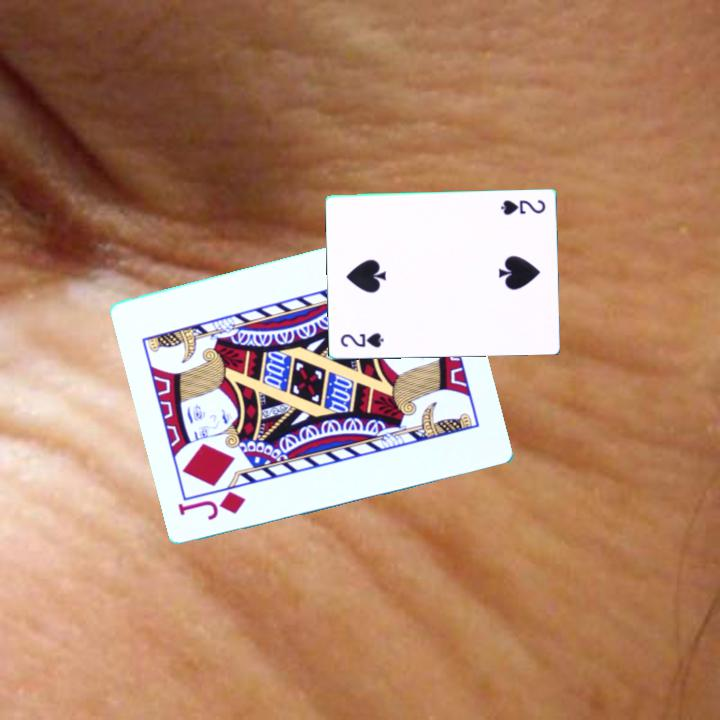2s: (497, 196, 548, 217), (337, 329, 386, 350)
Jd: (175, 488, 249, 523)
